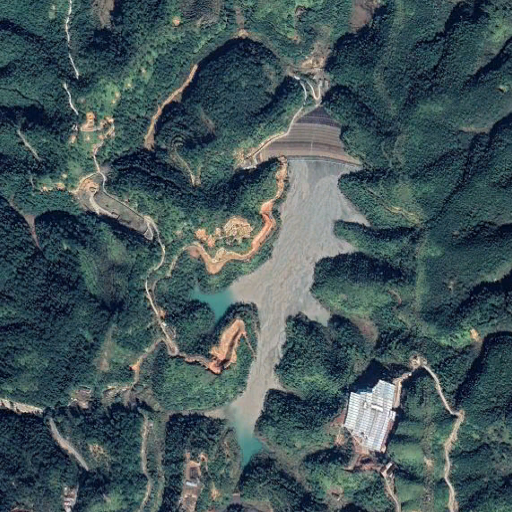tp: (186, 106, 369, 470)
